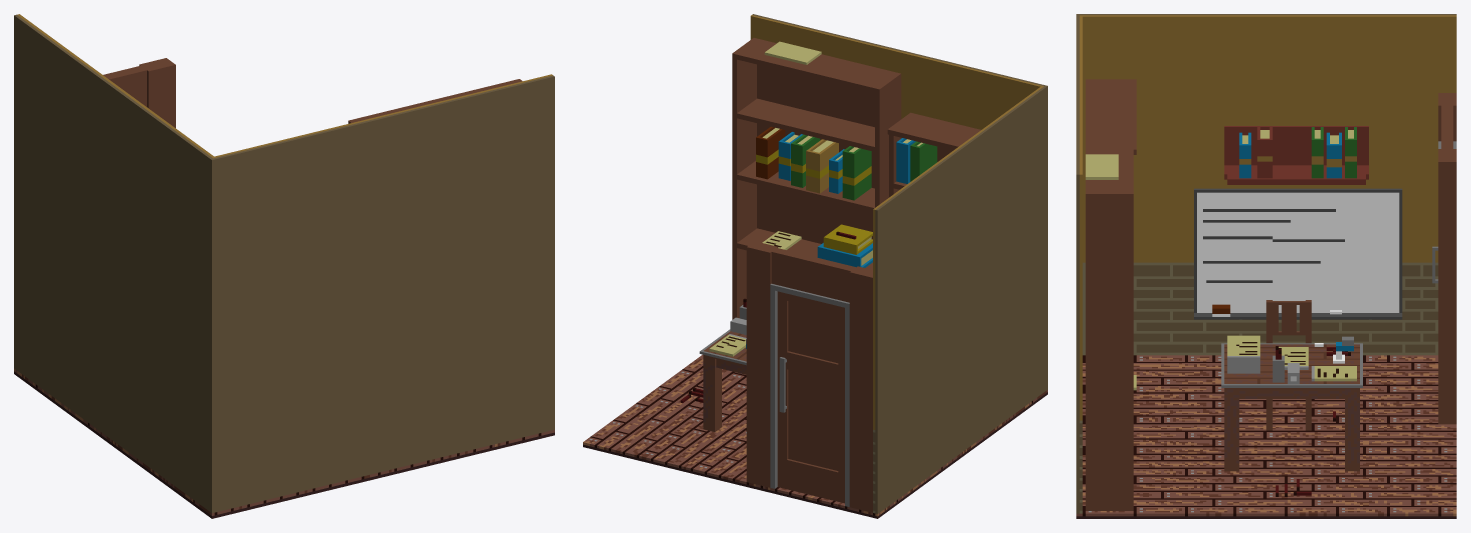
Rendered from exams.glb.
3 renders of one model, left to right at view 1: azimuth 30°, elevation 25°; view 2: azimuth 150°, elevation 25°; view 3: azimuth 270°, elevation 25°, orthographic. The views are drawn at different scales.
Visible parts, largest first — view 1: Object_6; view 2: Object_6; view 3: Object_6.
Boxes of the visible parts, x1=… form: Object_6: x1=14, y1=14, x2=554, y2=518; Object_6: x1=583, y1=14, x2=1047, y2=518; Object_6: x1=1076, y1=14, x2=1456, y2=518.
Bounding box in the file's own units: 12.6 × 12.6 × 12.6.
1 material, 1 textured.
